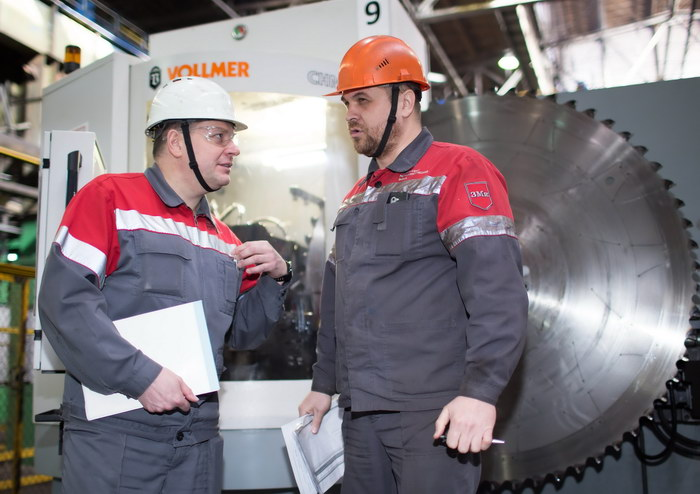person: (38, 77, 293, 494), (298, 35, 529, 494)
